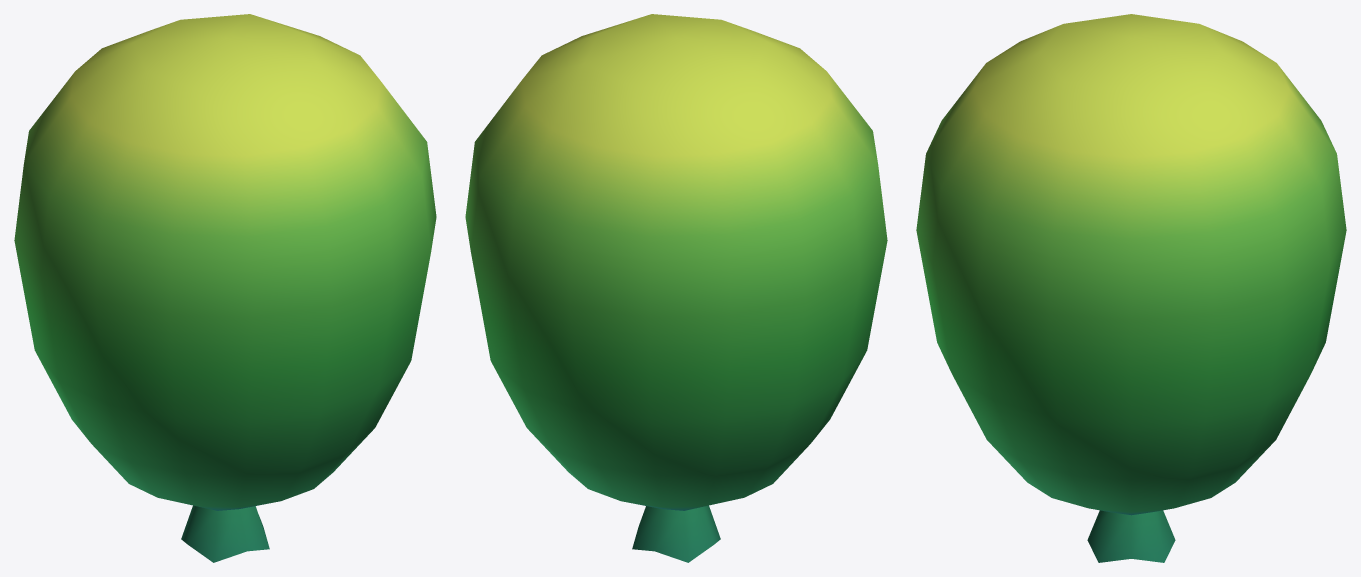
The model's file is balloon_green.obj.
The picture shows the model from 3 angles, left to right: view 1: azimuth 30°, elevation 25°; view 2: azimuth 150°, elevation 25°; view 3: azimuth 270°, elevation 25°; orthographic projection.
Parts seen in each view (by area): view 1: balloon_green; view 2: balloon_green; view 3: balloon_green.
Part boxes in pixels (left/top/right/bottom): balloon_green: left=14, top=14, right=436, bottom=562; balloon_green: left=465, top=14, right=887, bottom=562; balloon_green: left=916, top=14, right=1346, bottom=562.
Bounding box in the file's own units: 0.7657 × 1 × 0.7657.
Materials: 1 (1 with a texture image).
